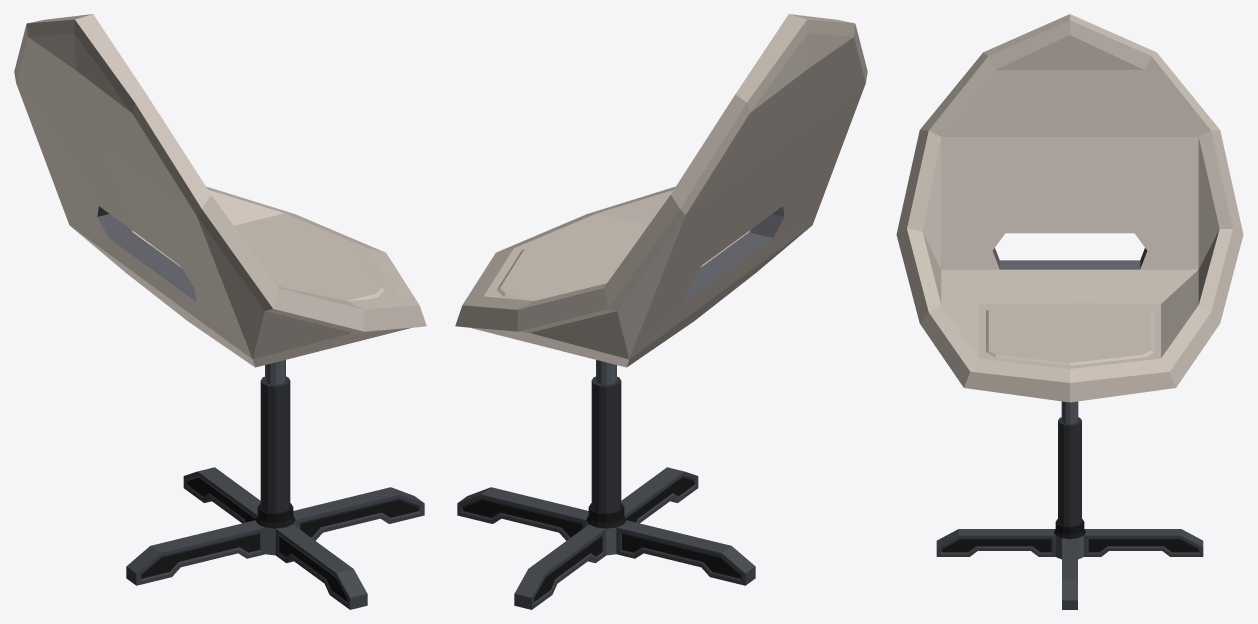
Rendered from SM_Chair.glb.
The picture shows the model from 3 angles, left to right: view 1: azimuth 30°, elevation 25°; view 2: azimuth 150°, elevation 25°; view 3: azimuth 270°, elevation 25°; orthographic projection. The views are drawn at different scales.
Visible parts, largest first — view 1: SM_Chair, SM_Chair_Leg; view 2: SM_Chair, SM_Chair_Leg; view 3: SM_Chair, SM_Chair_Leg.
Part boxes in pixels (x1,y1,x2,y2): SM_Chair: (14, 14, 426, 367); SM_Chair_Leg: (126, 360, 424, 609); SM_Chair: (455, 14, 867, 367); SM_Chair_Leg: (457, 360, 755, 609); SM_Chair: (896, 14, 1243, 402); SM_Chair_Leg: (936, 401, 1203, 609).
Bounding box in the file's own units: 0.6127 × 0.9793 × 0.6664.
Materials: 1 (1 with a texture image).
